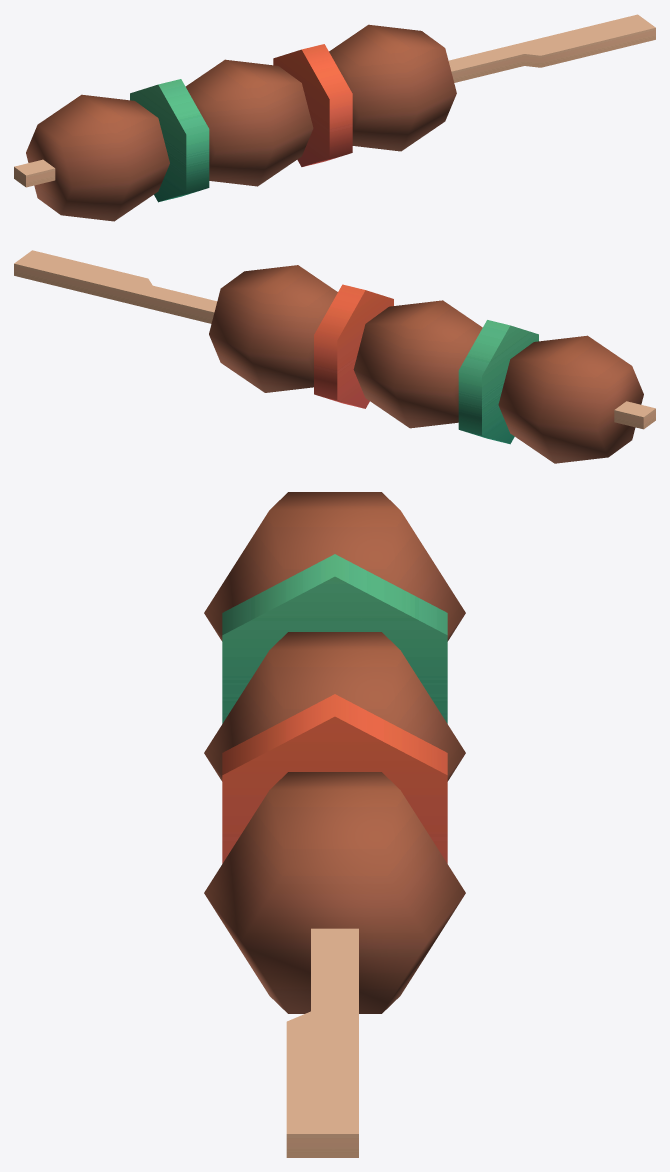
File: skewer-vegetables.glb
3 renders of one model, top to bottom at view 1: azimuth 30°, elevation 25°; view 2: azimuth 150°, elevation 25°; view 3: azimuth 270°, elevation 25°, orthographic. The views are drawn at different scales.
Visible parts, largest first — view 1: meat (×3), vegetables (×2), skewer-vegetables; view 2: meat (×3), vegetables (×2), skewer-vegetables; view 3: meat (×3), vegetables (×2), skewer-vegetables.
Part boxes in pixels (<box>): meat (×3): <box>26,24,456,221</box>; vegetables (×2): <box>130,44,352,202</box>; skewer-vegetables: <box>14,14,655,187</box>; meat (×3): <box>209,265,643,463</box>; vegetables (×2): <box>314,284,538,444</box>; skewer-vegetables: <box>14,250,655,429</box>; meat (×3): <box>204,492,465,1013</box>; vegetables (×2): <box>222,554,447,863</box>; skewer-vegetables: <box>286,928,358,1157</box>.
Bounding box in the file's own units: 0.5967 × 0.1077 × 0.1085.
1 material, 1 textured.
